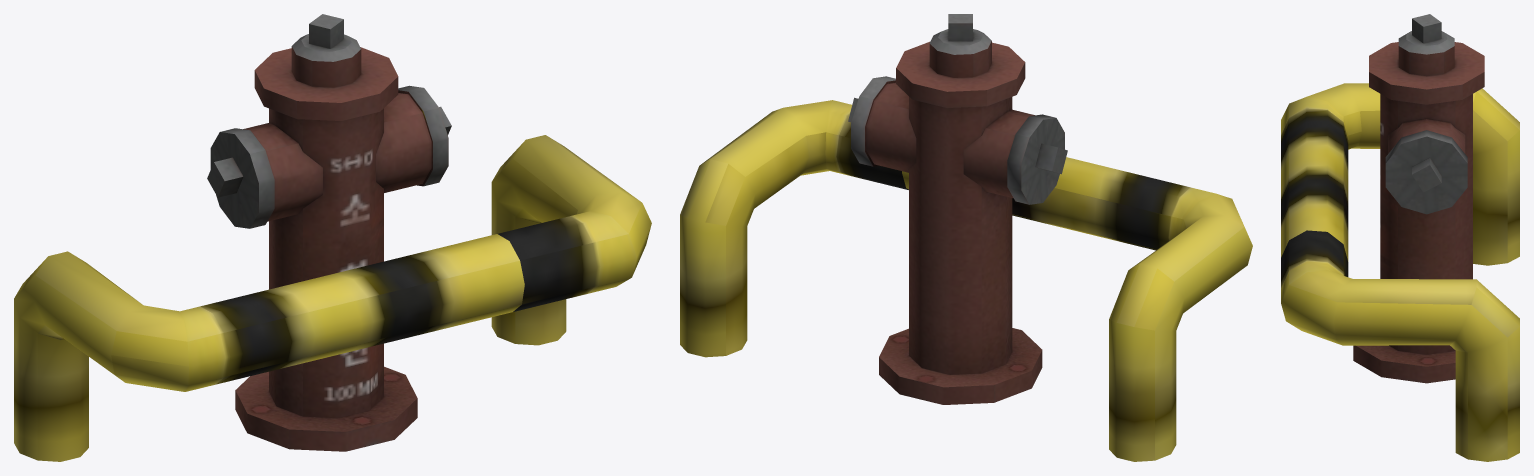
Rendered from hydrant.gltf.
3 renders of one model, left to right at view 1: azimuth 30°, elevation 25°; view 2: azimuth 150°, elevation 25°; view 3: azimuth 270°, elevation 25°, orthographic. The views are drawn at different scales.
Parts seen in each view (by area): view 1: hydrant; view 2: hydrant; view 3: hydrant.
Part boxes in pixels (<box>): hydrant: <box>14,14,651,461</box>; hydrant: <box>680,14,1252,461</box>; hydrant: <box>1281,14,1519,461</box>.
Bounding box in the file's own units: 5.46 × 3.78 × 2.48.
Materials: 1 (1 with a texture image).
